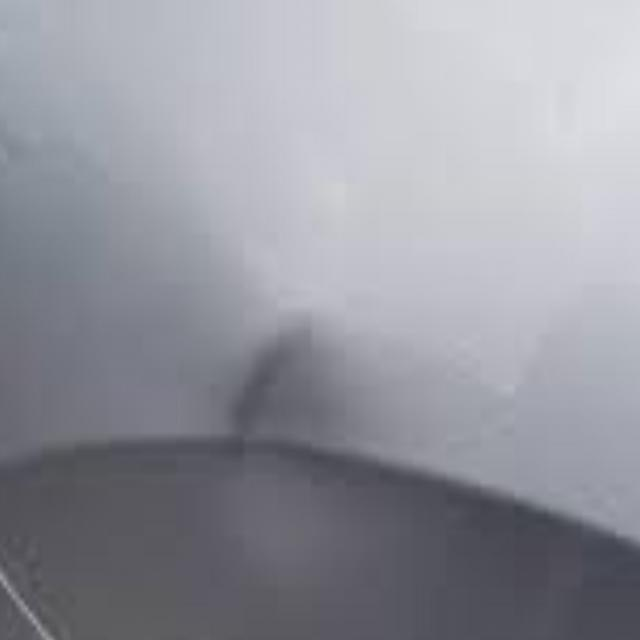dents: (210, 291, 351, 557)
